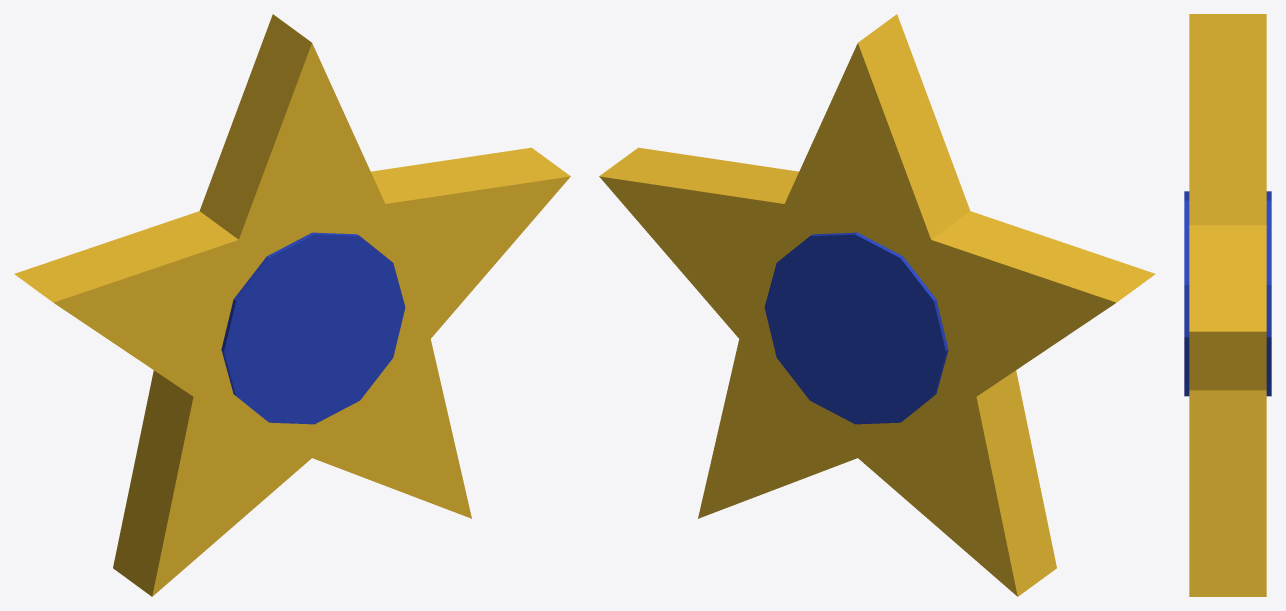
Rendered from disguise_party_badge.glb.
The picture shows the model from 3 angles, left to right: view 1: azimuth 30°, elevation 25°; view 2: azimuth 150°, elevation 25°; view 3: azimuth 270°, elevation 25°; orthographic projection.
Visible parts, largest first — view 1: star_plastic_gold, middle_party_blue; view 2: star_plastic_gold, middle_party_blue; view 3: star_plastic_gold, middle_party_blue.
Part boxes in pixels (<box>): star_plastic_gold: <box>14,14,570,596</box>; middle_party_blue: <box>221,232,405,424</box>; star_plastic_gold: <box>599,14,1155,596</box>; middle_party_blue: <box>764,232,948,424</box>; star_plastic_gold: <box>1189,14,1266,596</box>; middle_party_blue: <box>1184,191,1271,396</box>.
Size of the model in its own units: 0.2283 by 0.2171 by 0.034.
